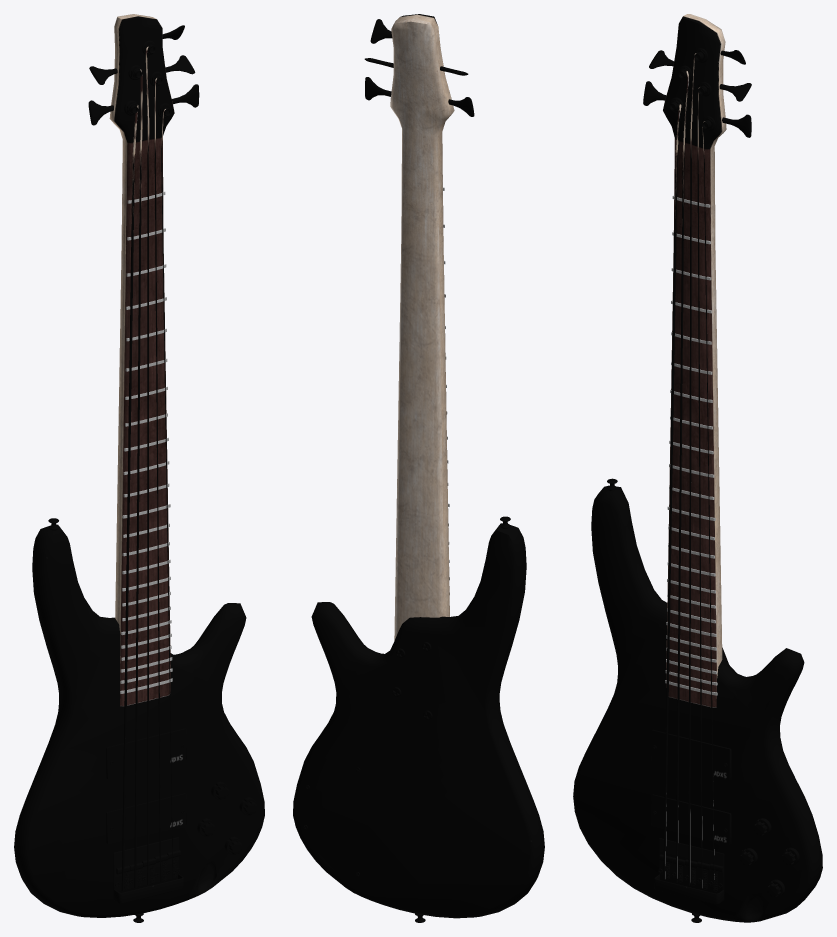
The model's file is bass-4-old.glb.
3 views of the same model, side by side, from view 1: azimuth 30°, elevation 25°; view 2: azimuth 150°, elevation 25°; view 3: azimuth 330°, elevation 25° (orthographic).
Parts seen in each view (by area): view 1: Bass_base_low, Grif_low, Zw_low, Zv_5_low.001, Zv_5_low, String_1_high, String_2_high, String_3_high, String_4_high, String_5_high; view 2: Bass_base_low, Grif_low; view 3: Bass_base_low, Grif_low, Zw_low, Zv_5_low.001, Zv_5_low, String_1_high, String_2_high, String_3_high, String_4_high, String_5_high.
Part boxes in pixels (x1,y1,x2,y2): Bass_base_low: [14, 524, 264, 917]; Grif_low: [109, 14, 174, 706]; Zw_low: [113, 837, 183, 903]; Zv_5_low.001: [106, 793, 186, 844]; Zv_5_low: [106, 728, 186, 779]; String_1_high: [121, 103, 138, 891]; String_2_high: [132, 68, 142, 888]; String_3_high: [145, 46, 152, 884]; String_4_high: [154, 76, 162, 881]; String_5_high: [161, 108, 173, 877]; Bass_base_low: [293, 523, 544, 918]; Grif_low: [390, 14, 454, 640]; Bass_base_low: [573, 485, 822, 922]; Grif_low: [663, 14, 726, 707]; Zw_low: [654, 838, 724, 904]; Zv_5_low.001: [651, 794, 731, 844]; Zv_5_low: [651, 730, 731, 780]; String_1_high: [663, 100, 681, 879]; String_2_high: [676, 68, 689, 882]; String_3_high: [688, 53, 703, 885]; String_4_high: [697, 86, 705, 888]; String_5_high: [702, 121, 714, 891].
Size of the model in its own units: 1.4 by 4.95 by 0.1986.
1 material, 1 textured.
